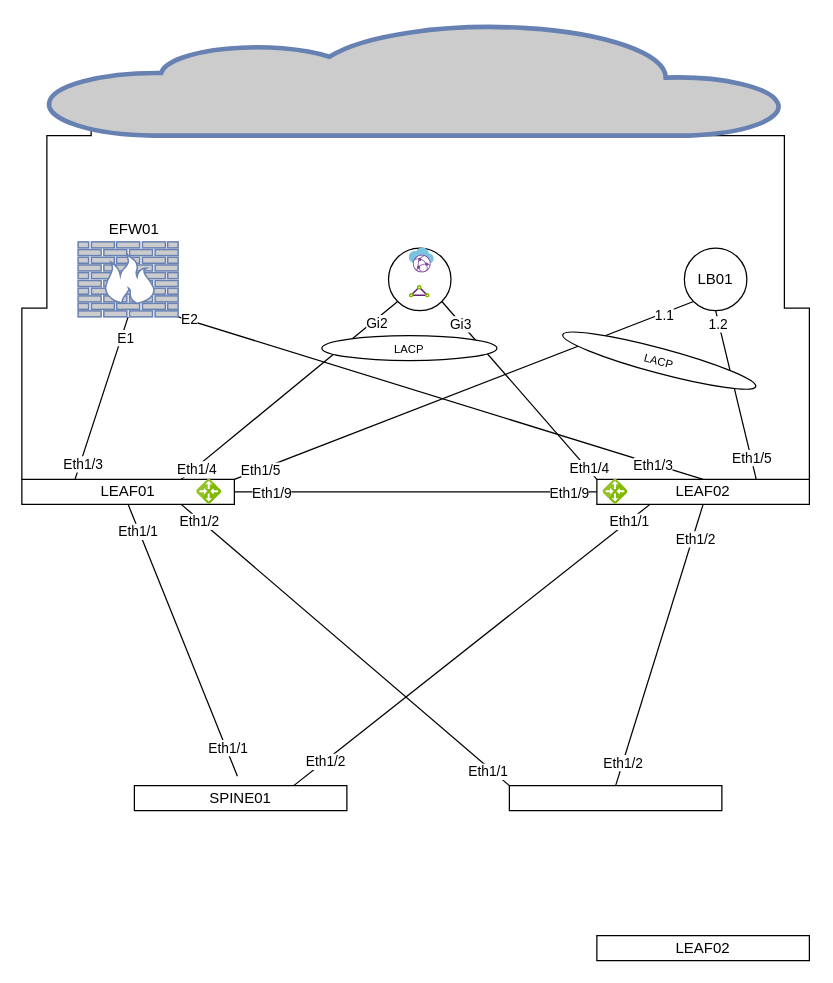
The diagram is 833 pixels wide and 983 high, and some of its shapes have lost their labels. The box of each missing label's shape, as (x1, y1, x2, y2) in pixels:
"THE WAN": (45, 21, 785, 136)
bdr01: (387, 247, 451, 311)
SPINE02: (508, 784, 722, 811)
